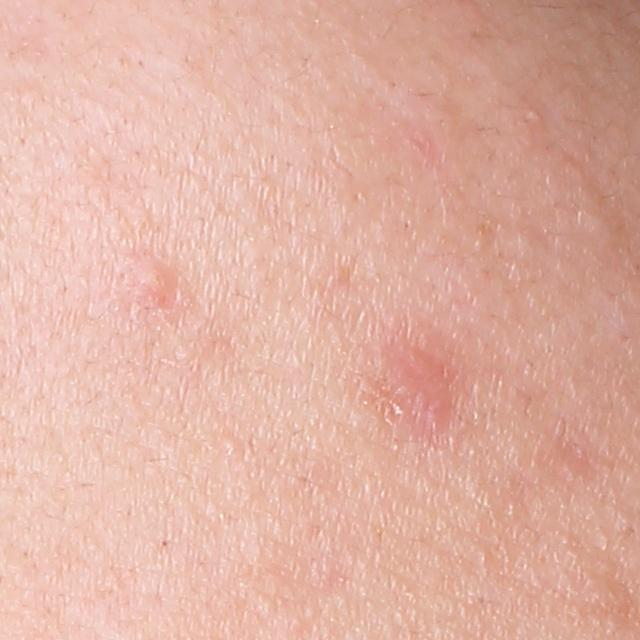papule: (378, 338, 457, 434), (131, 258, 180, 312)
